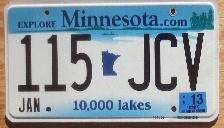1: (43, 32, 68, 93), (16, 33, 41, 93)
5: (69, 32, 94, 93)
C: (153, 30, 179, 94)
J: (126, 32, 152, 93)
V: (180, 31, 207, 92)
